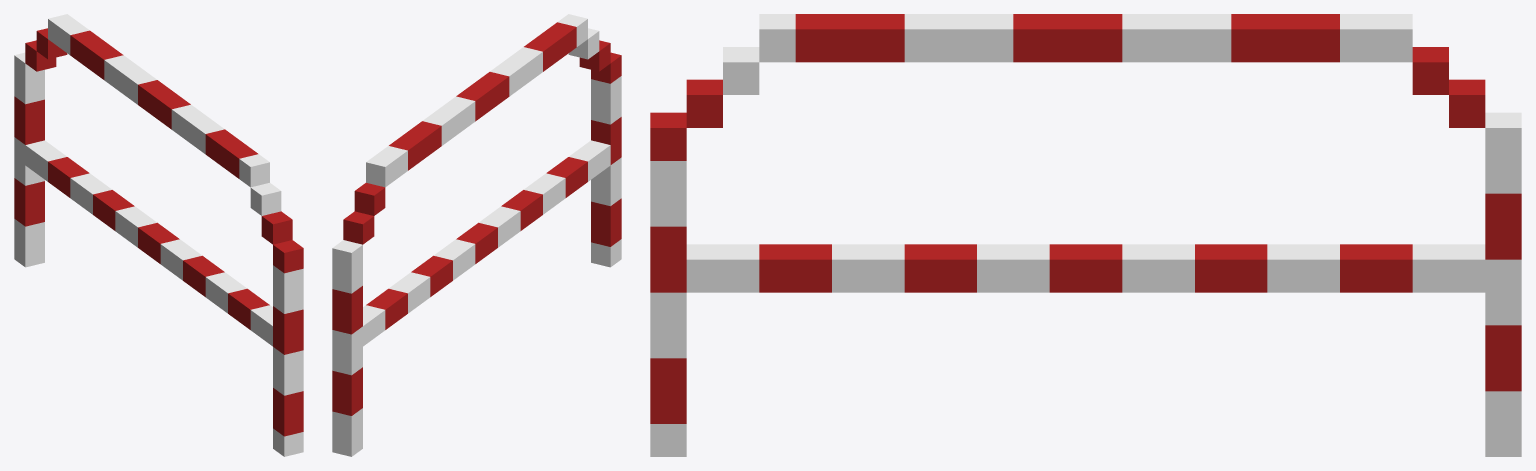
The model's file is drzewko-5.obj.
3 views of the same model, side by side, from view 1: azimuth 30°, elevation 25°; view 2: azimuth 150°, elevation 25°; view 3: azimuth 270°, elevation 25° (orthographic). The views are drawn at different scales.
Size of the model in its own units: 0.1 by 1.3 by 2.4.
Materials: 1 (1 with a texture image).
